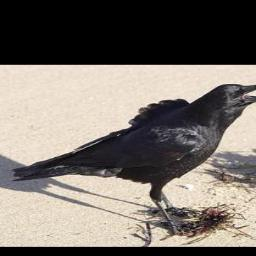Crow: (10, 82, 256, 238)
